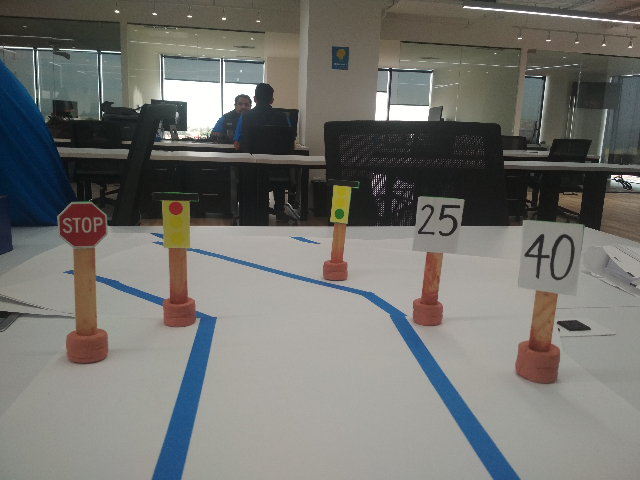Green Traffic Light: (324, 175, 361, 226)
Red Traffic Light: (148, 190, 201, 253)
Speed Limit 25: (408, 195, 466, 255)
Speed Limit 40: (514, 217, 587, 295)
Stop Sign: (53, 197, 110, 249)
